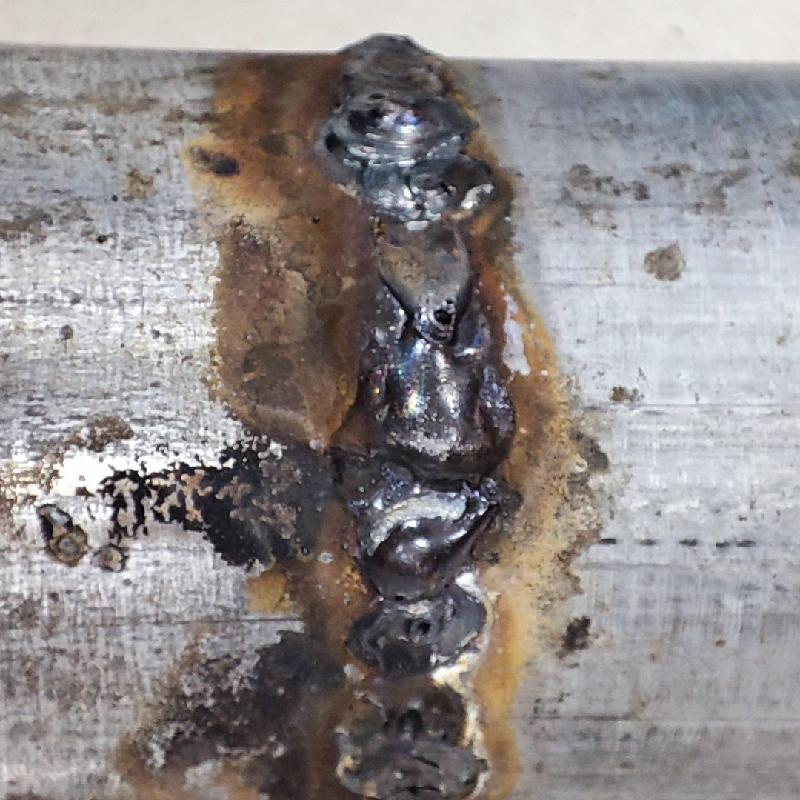Not_fully_soldered: (354, 164, 478, 336)
Surface_pores: (412, 290, 474, 344)
Weld: (353, 337, 505, 610)
wrong_size: (324, 21, 472, 161)
